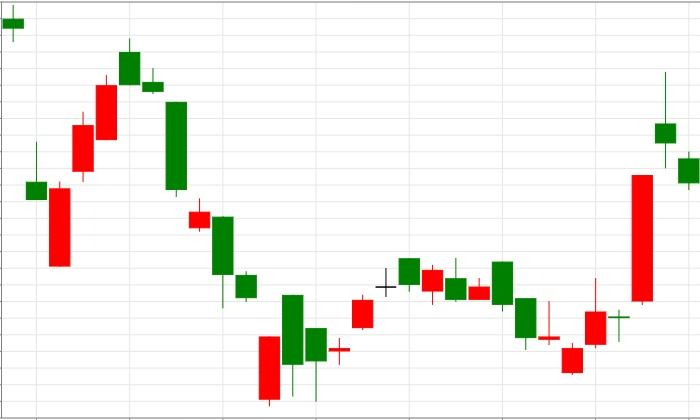hammer_rise: (119, 38, 327, 407)
